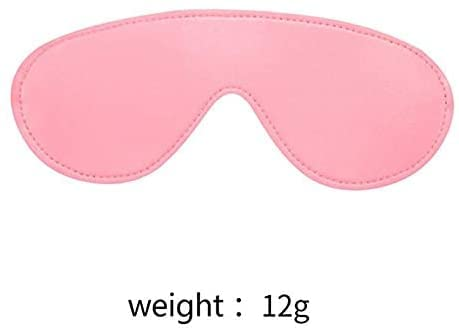12g: (263, 294, 309, 324)
:: (237, 298, 241, 317)
weight: (128, 292, 223, 324)
